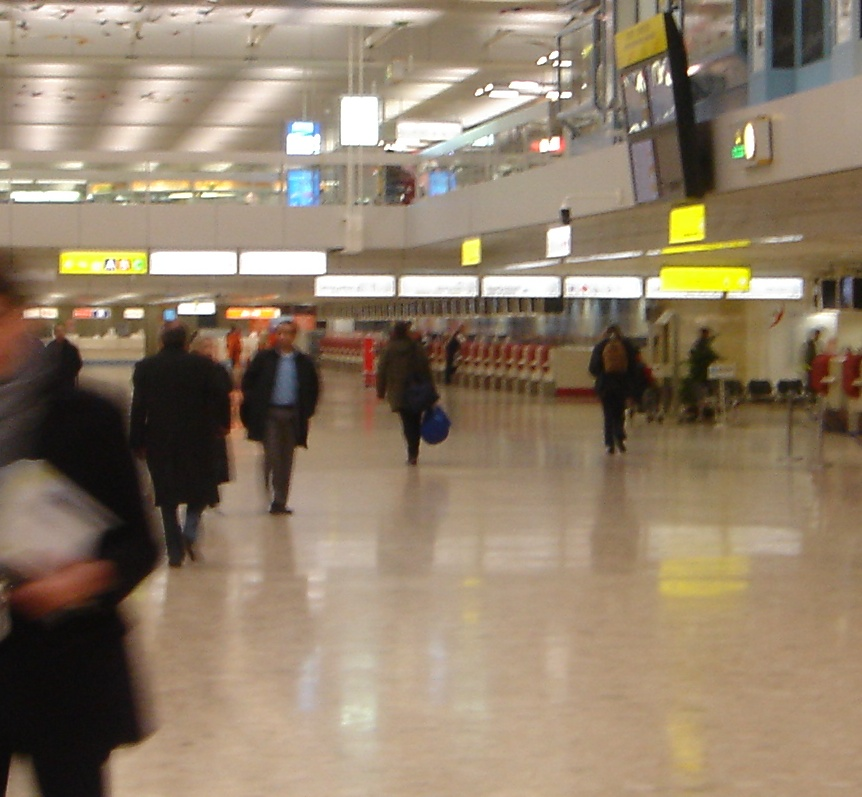person: (138, 315, 223, 567), (248, 317, 319, 517), (385, 320, 438, 462), (595, 322, 636, 459)
